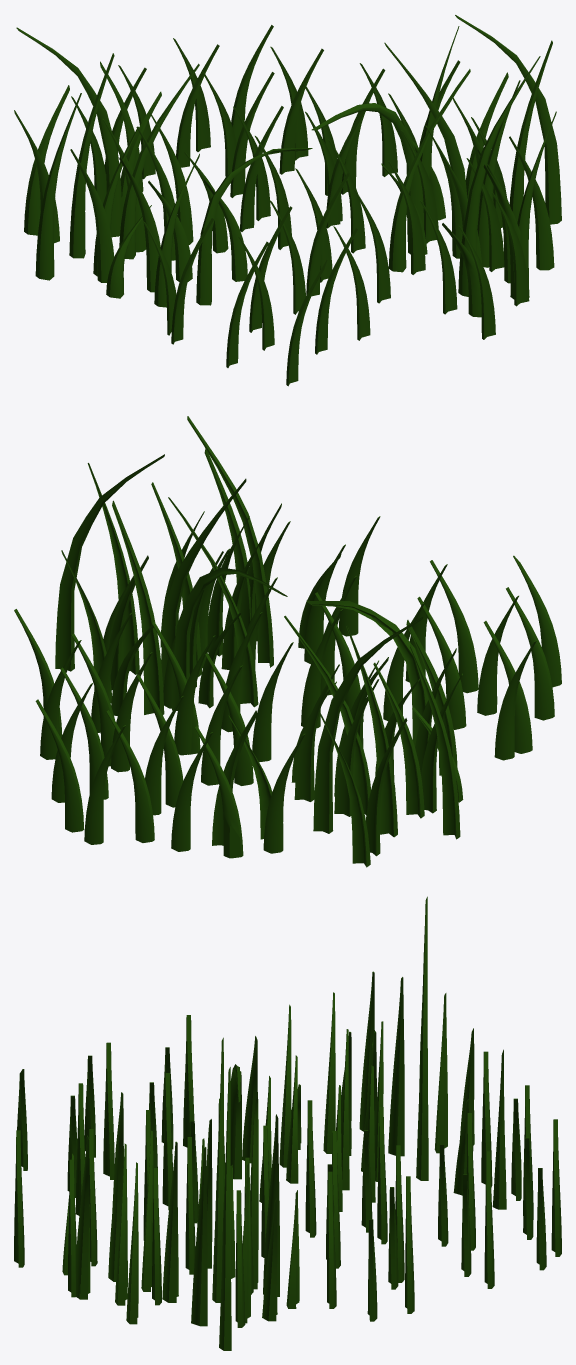
Rendered from tall_grass_patch.fbx.
3 views of the same model, one above another, from view 1: azimuth 30°, elevation 25°; view 2: azimuth 150°, elevation 25°; view 3: azimuth 270°, elevation 25° (orthographic). The views are drawn at different scales.
Visible parts, largest first — view 1: tall_grass; view 2: tall_grass; view 3: tall_grass.
Boxes of the visible parts, x1=… form: tall_grass: x1=14, y1=15, x2=561, y2=386; tall_grass: x1=14, y1=416, x2=561, y2=867; tall_grass: x1=14, y1=896, x2=561, y2=1350.
Size of the model in its own units: 6130 by 2979 by 6319.
